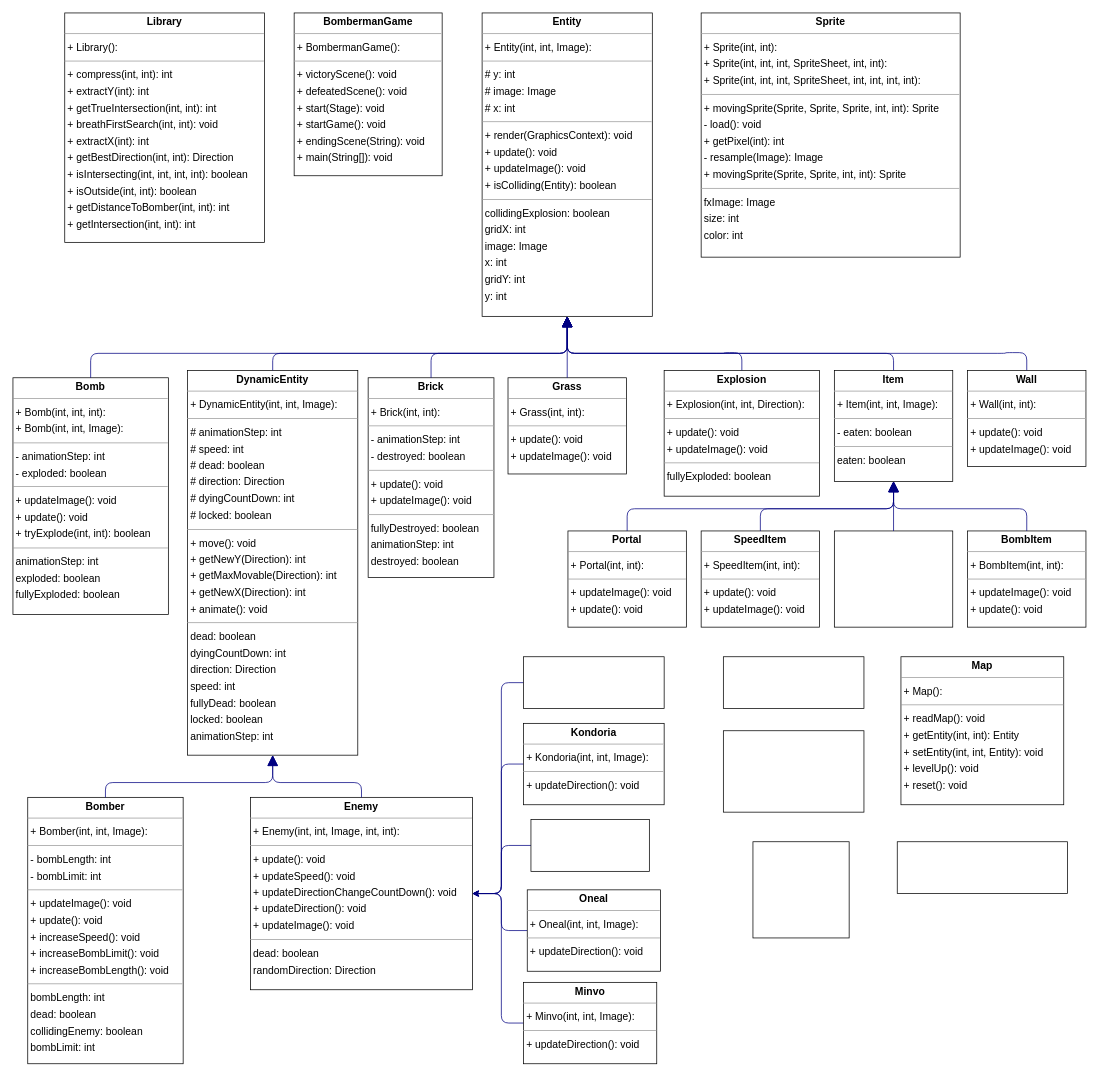
The diagram is 1099 pixels wide and 1077 high, and some of its shapes have lost their labels. The centre of each missing label's shape, as x and y in pixels:
Balloom + Balloom(int, int, Image):: point 593,682
Display + Display(): + update(): void + render(): void: point 800,889
Doll + Doll(int, int, Image):: point 589,845
FlameItem + FlameItem(int, int): + update(): void + updateImage(): void: point 893,578
LevelButton + LevelButton(int, int, int):: point 793,682
SoundPlayer + SoundPlayer(String, int, float):: point 982,867
SpriteSheet + SpriteSheet(String, int): - load(): void: point 793,771
